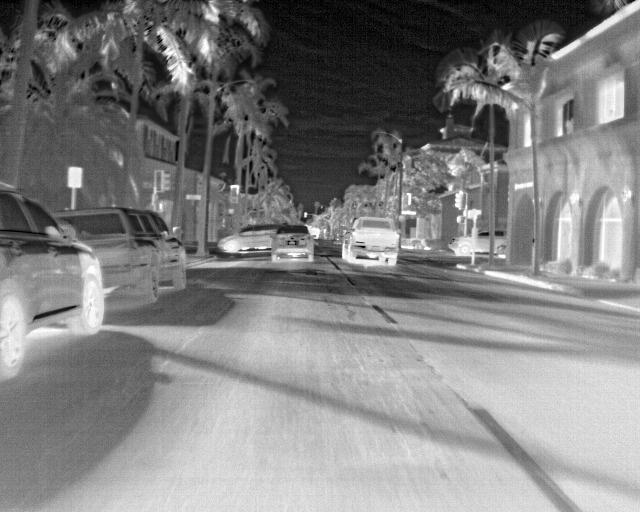car: (0, 189, 104, 379), (77, 205, 187, 306), (340, 214, 401, 267), (269, 223, 315, 263), (217, 222, 273, 253), (452, 236, 472, 256), (477, 230, 489, 253)
